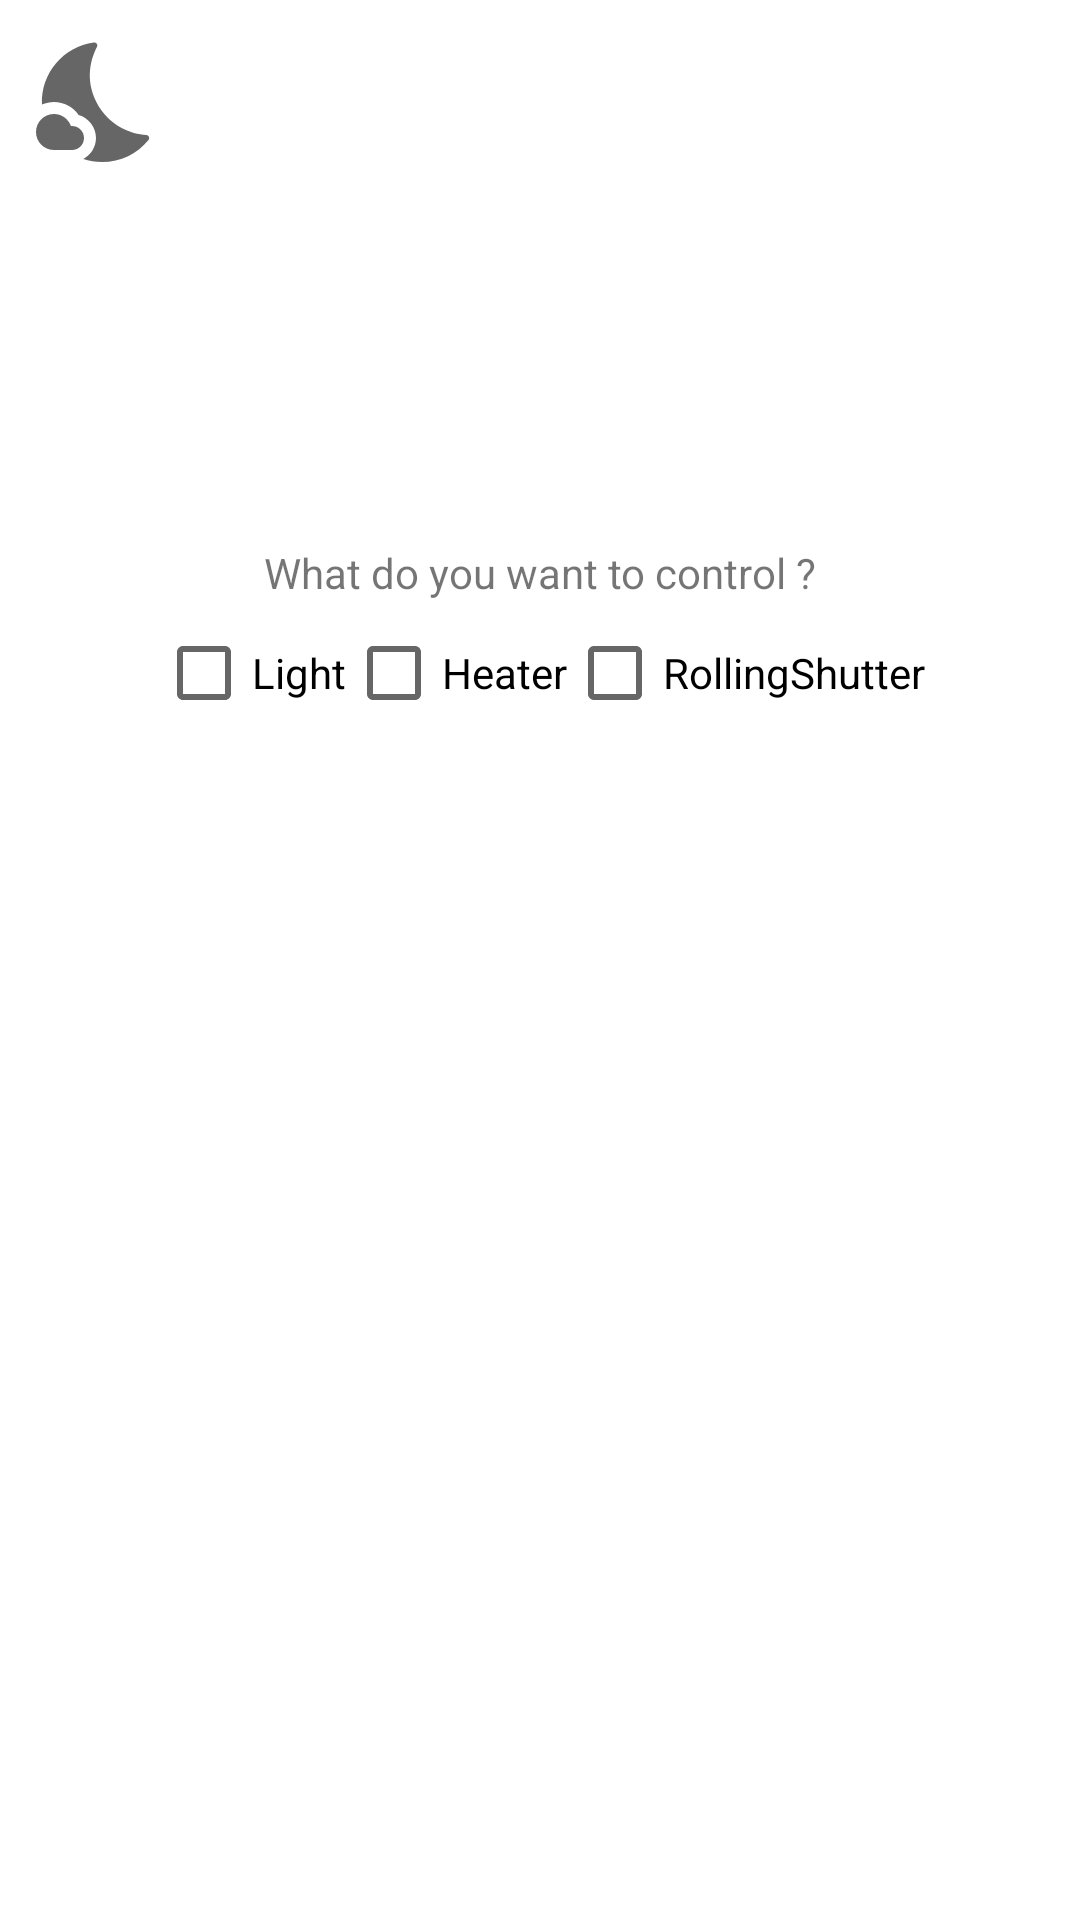

Named icons in this screenshot (1080x1920) and their centers, (x=x, y=y):
nights stay: (x=92, y=102)
